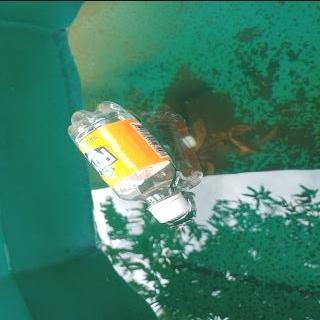bottle: (63, 99, 192, 224)
